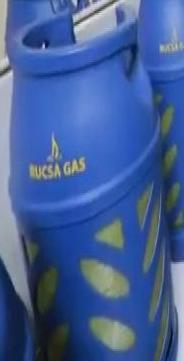cylinder: (1, 0, 184, 361)
